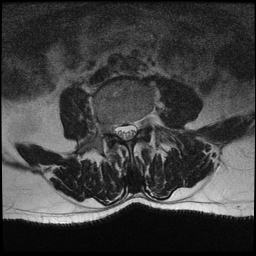CCS_normal: (122, 116, 130, 148)
LFS_normal: (137, 109, 145, 136)
LLS_normal: (130, 115, 138, 142)
RFS_normal: (107, 115, 114, 139)
RLS_normal: (115, 117, 122, 144)
